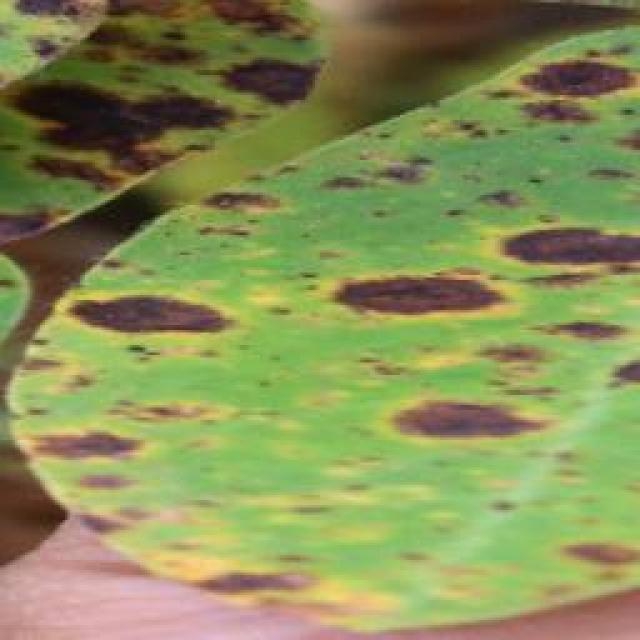Yellowish: (0, 13, 640, 604)
